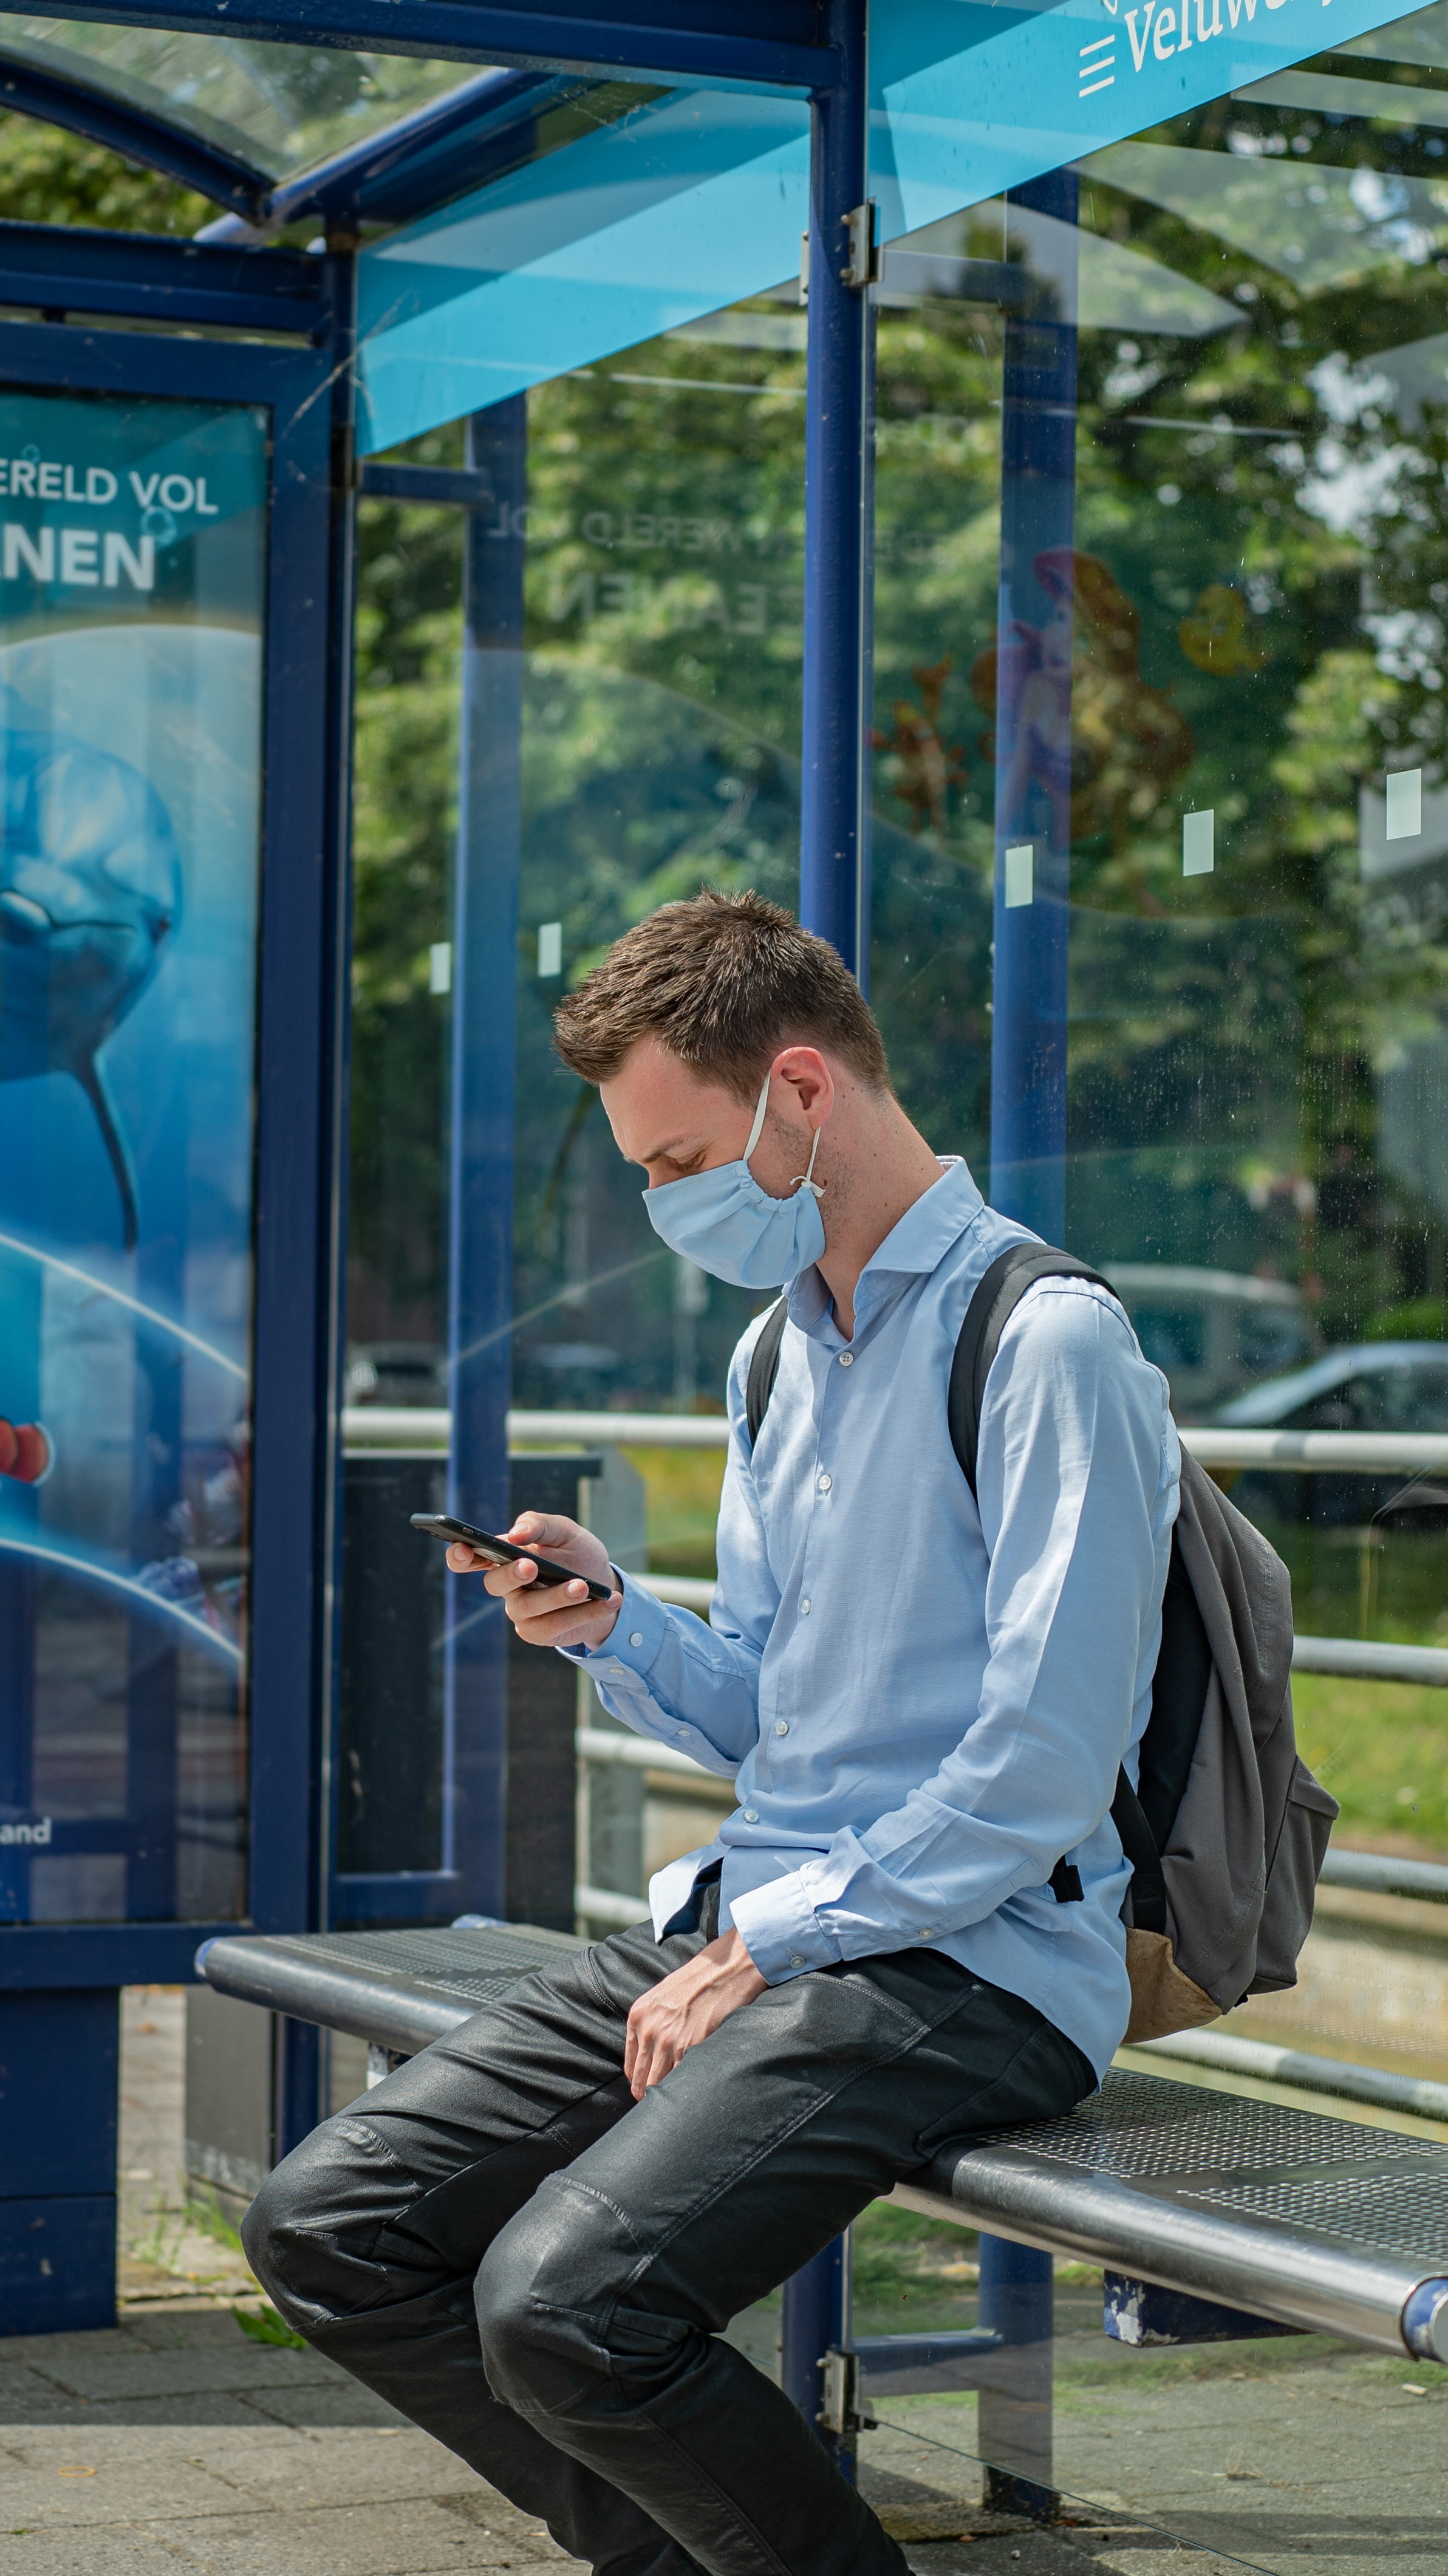mask: (613, 1176, 915, 1306)
person: (324, 889, 1238, 2576)
